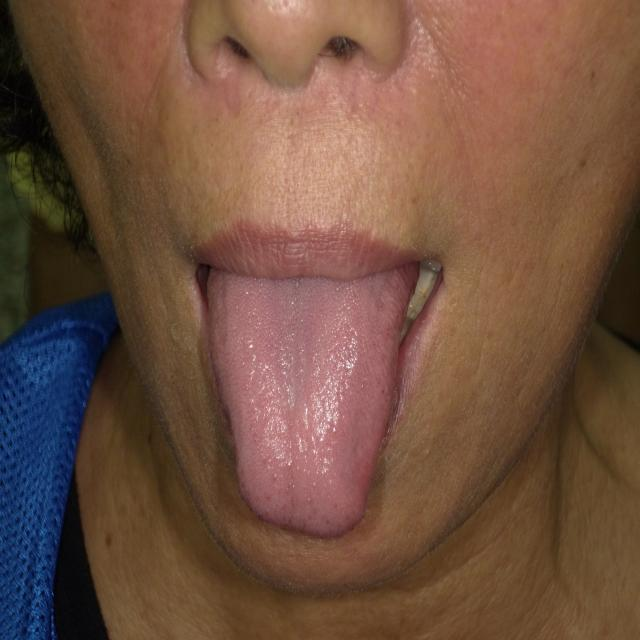baitaishe: (206, 261, 419, 538)
